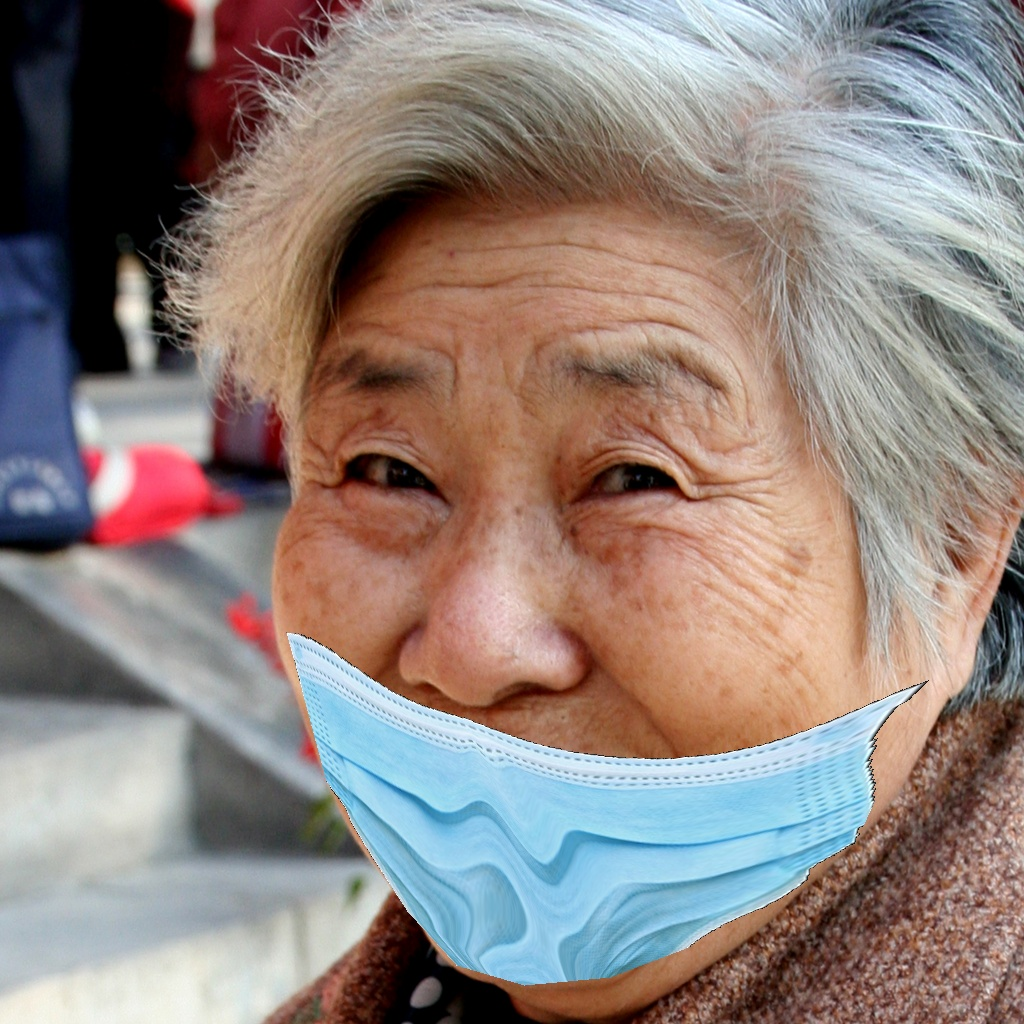mascarilla_mal_puesta: (219, 375, 877, 970)
